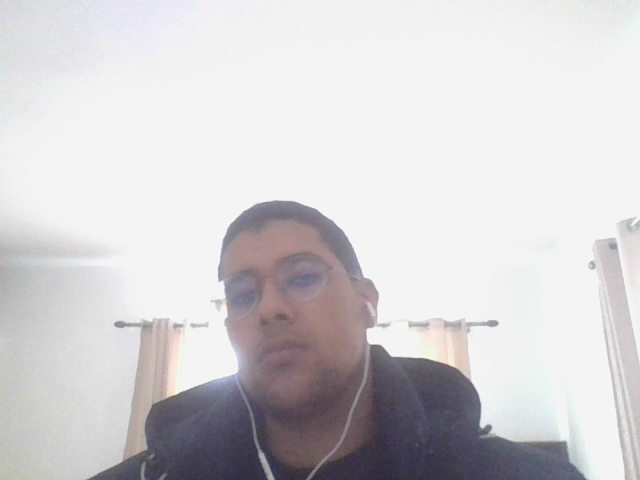real: (212, 177, 380, 415)
